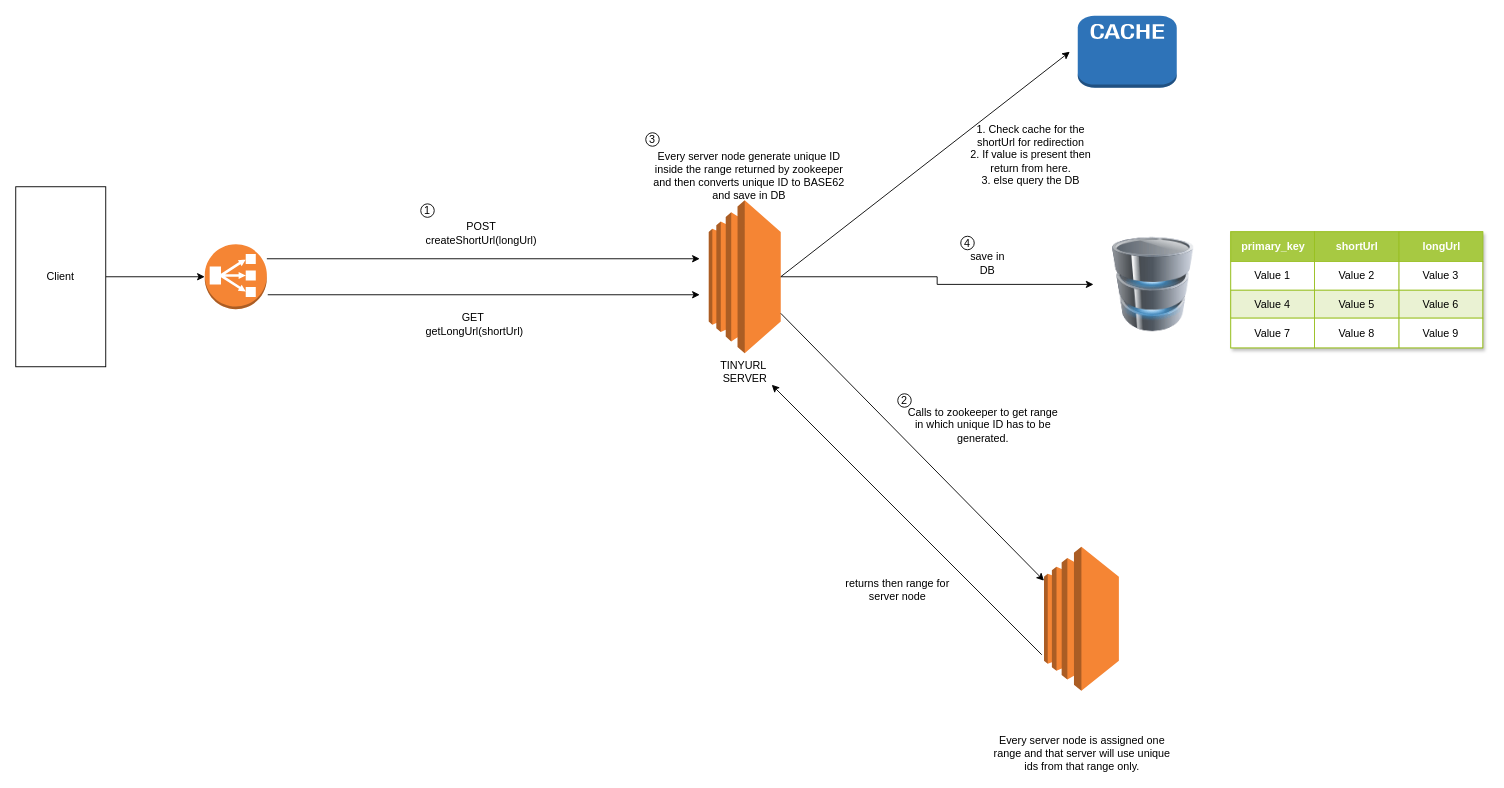
Some shapes in this 1504 by 788 pixel diagram are drawn without their labels. Each missing label, with the centre of its shape:
LOAD BALANCER: the point at 235,276
RELATIONAL DATABASE: the point at 1152,284
ZOOKEEPER SERVER: the point at 1081,618
